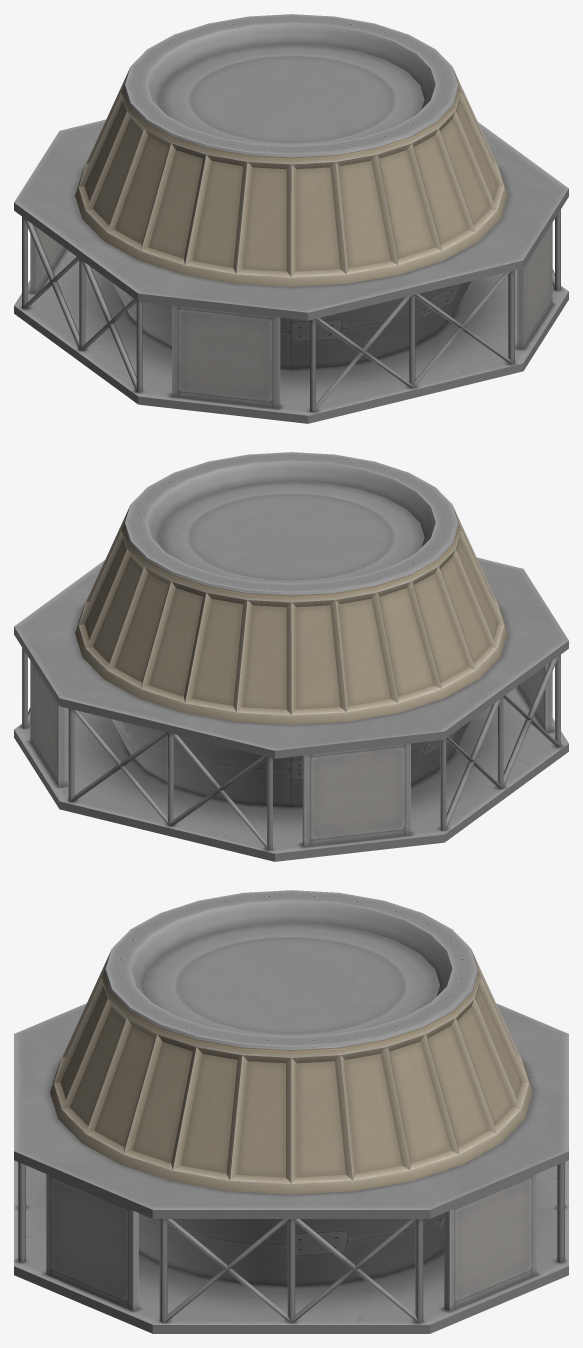
The model's file is Libra_LFO_1.obj.
3 renders of one model, top to bottom at view 1: azimuth 30°, elevation 25°; view 2: azimuth 150°, elevation 25°; view 3: azimuth 270°, elevation 25°, orthographic. The views are drawn at different scales.
Parts seen in each view (by area): view 1: Libra_LFO_1; view 2: Libra_LFO_1; view 3: Libra_LFO_1.
Boxes of the visible parts, x1=… form: Libra_LFO_1: x1=14, y1=14, x2=568, y2=423; Libra_LFO_1: x1=14, y1=452, x2=568, y2=861; Libra_LFO_1: x1=14, y1=890, x2=568, y2=1333.
Size of the model in its own units: 1.4 by 0.69 by 1.4.
